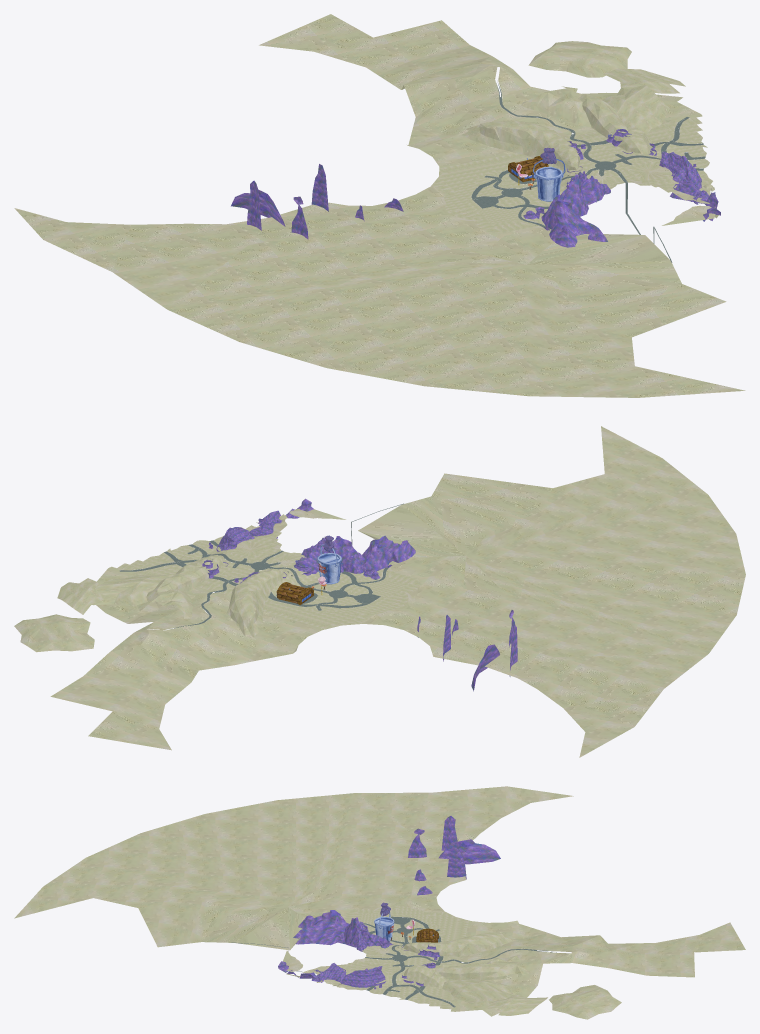
3 views of the same model, one above another, from view 1: azimuth 30°, elevation 25°; view 2: azimuth 150°, elevation 25°; view 3: azimuth 270°, elevation 25° (orthographic). The views are drawn at different scales.
Visible parts, largest first — view 1: mesh_0_37, mesh_0_40, mesh_0_11, mesh_0_9, mesh_0_22; view 2: mesh_0_37, mesh_0_40, mesh_0_11, mesh_0_9, mesh_0_36, mesh_0_22; view 3: mesh_0_37, mesh_0_40, mesh_0_11, mesh_0_9.
Part boxes in pixels (bbox=[...]): mesh_0_37: bbox=[14, 14, 745, 397]; mesh_0_40: bbox=[231, 129, 720, 247]; mesh_0_11: bbox=[471, 97, 705, 262]; mesh_0_9: bbox=[473, 83, 705, 205]; mesh_0_22: bbox=[532, 158, 565, 201]; mesh_0_37: bbox=[14, 426, 745, 757]; mesh_0_40: bbox=[202, 498, 517, 691]; mesh_0_11: bbox=[120, 503, 403, 625]; mesh_0_9: bbox=[119, 544, 369, 628]; mesh_0_36: bbox=[276, 582, 313, 605]; mesh_0_22: bbox=[317, 544, 341, 584]; mesh_0_37: bbox=[14, 786, 745, 1019]; mesh_0_40: bbox=[278, 816, 500, 989]; mesh_0_11: bbox=[231, 916, 536, 1007]; mesh_0_9: bbox=[366, 917, 556, 1007].
Bounding box in the file's own units: 8872 × 934 × 11885.
47 materials, 47 textured.
